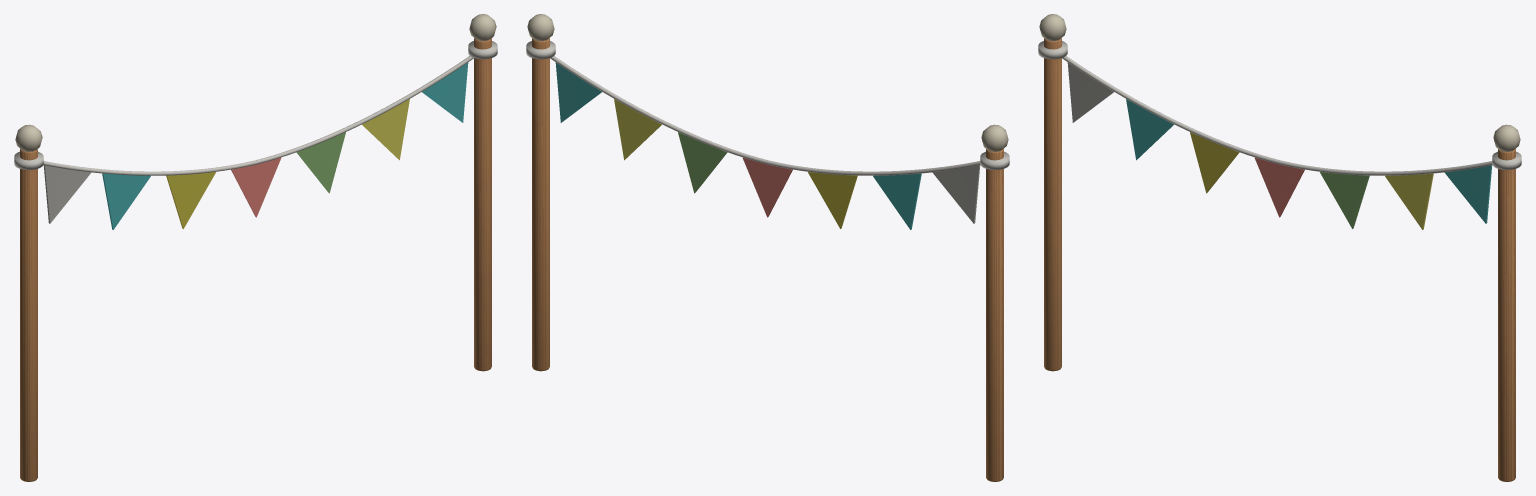
The model's file is banner_line_2_high.glb.
The picture shows the model from 3 angles, left to right: view 1: azimuth 30°, elevation 25°; view 2: azimuth 150°, elevation 25°; view 3: azimuth 330°, elevation 25°; orthographic projection.
Parts seen in each view (by area): view 1: banner_line_2; view 2: banner_line_2; view 3: banner_line_2.
Boxes of the visible parts, x1,y1,x2,y2 form: banner_line_2: (14,14,497,481); banner_line_2: (526,14,1009,481); banner_line_2: (1038,14,1521,481).
Size of the model in its own units: 2.7 by 1.9 by 0.144.
1 material, 1 textured.
